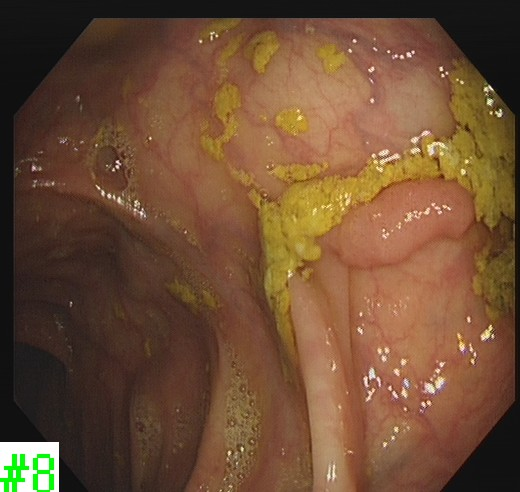adenoma: (326, 174, 477, 270)
